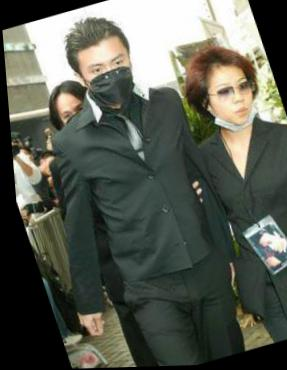OK: (75, 47, 141, 111)
WRONG: (202, 74, 264, 137)
